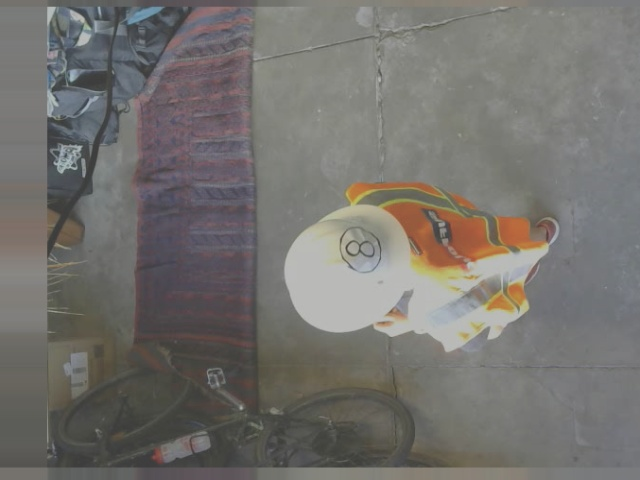eight: (339, 225, 382, 272)
